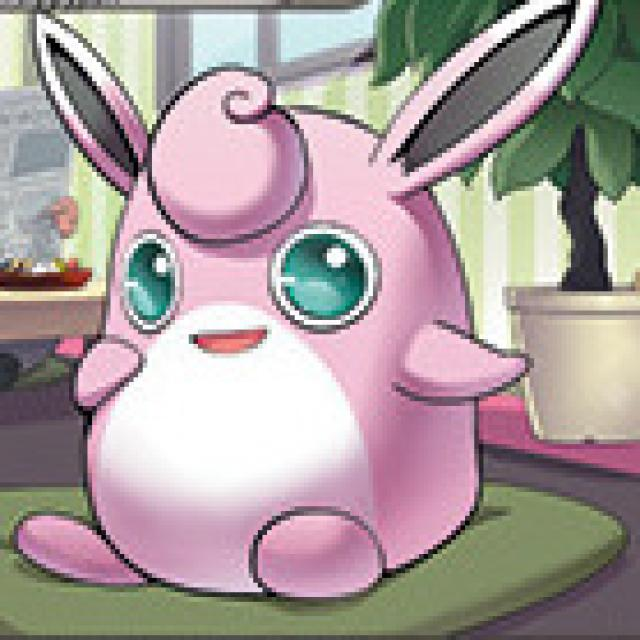Wigglytuff: (57, 62, 513, 596)
